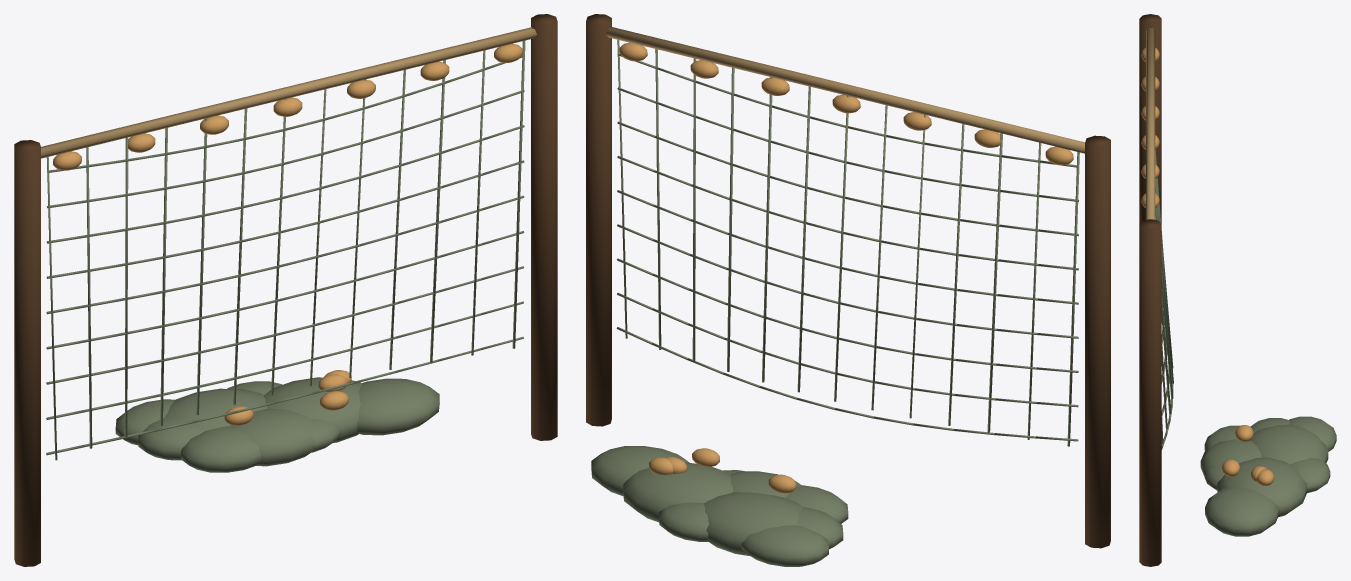
The model's file is netze.glb.
The picture shows the model from 3 angles, left to right: view 1: azimuth 30°, elevation 25°; view 2: azimuth 150°, elevation 25°; view 3: azimuth 270°, elevation 25°; orthographic projection. The views are drawn at different scales.
Parts seen in each view (by area): view 1: Cone; view 2: Cone; view 3: Cone.
Boxes of the visible parts, box(x1,y1,x2,y2) form: Cone: box(14, 14, 557, 566); Cone: box(586, 14, 1110, 566); Cone: box(1139, 14, 1336, 566).
Bounding box in the file's own units: 2.72 × 2.05 × 1.06.
